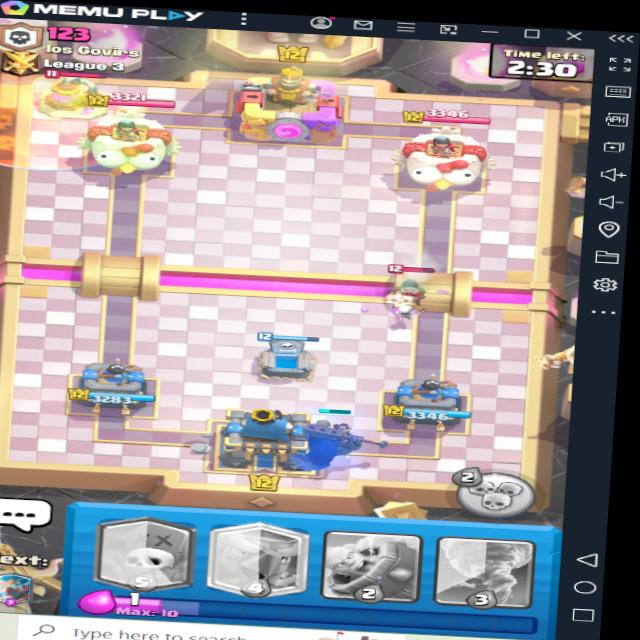Bandit: (374, 259, 453, 323)
Pump: (39, 69, 118, 125)
